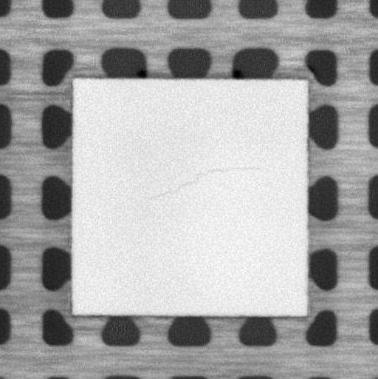DIE_CRACK: (153, 164, 261, 197)
